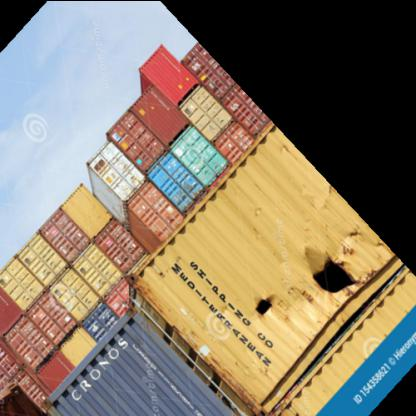Damage: (302, 245, 363, 300), (245, 280, 277, 318)
